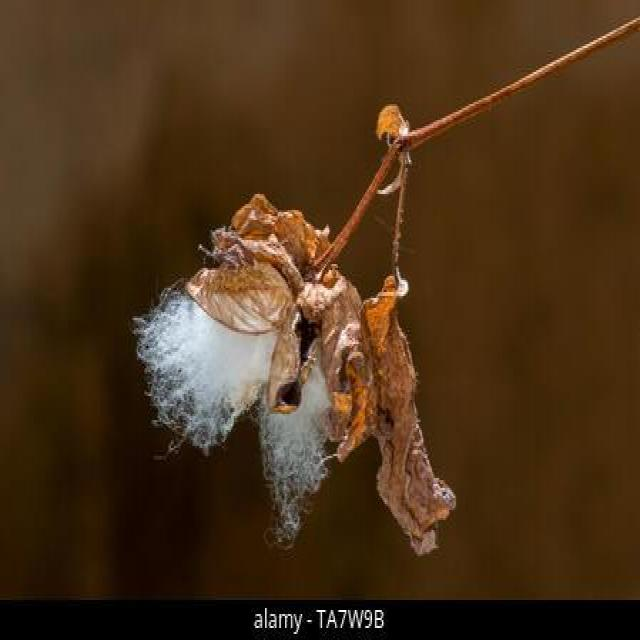Late_blight: (136, 200, 450, 553)
